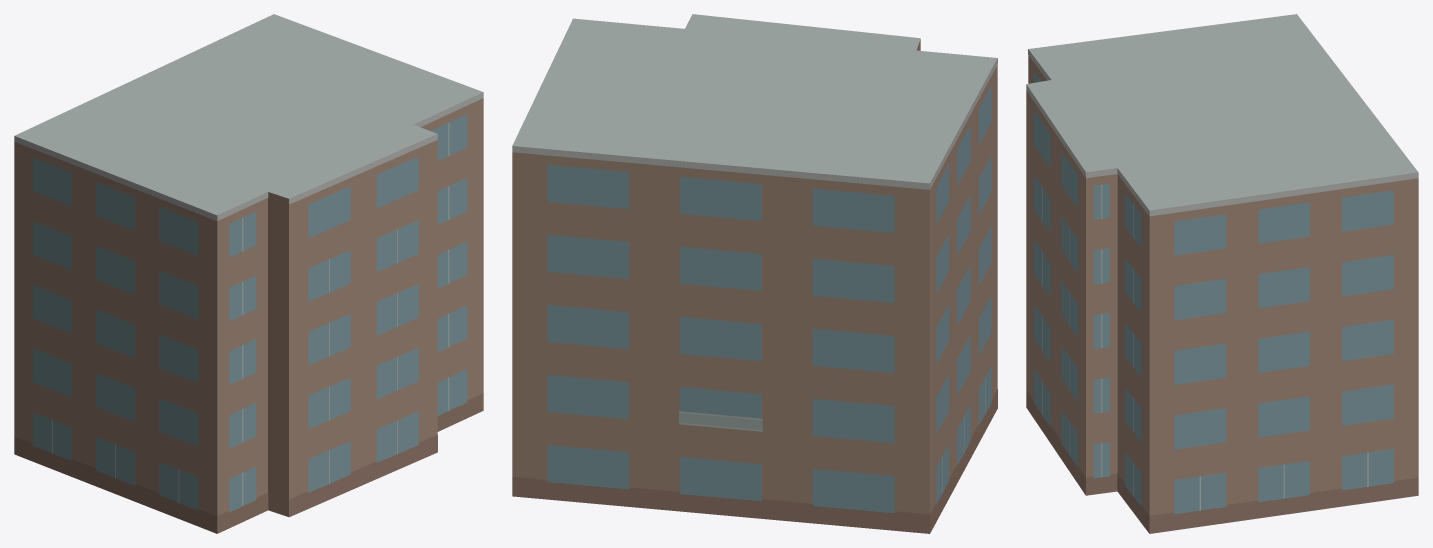
The model's file is survey-upis-32626159.glb.
3 renders of one model, left to right at view 1: azimuth 30°, elevation 25°; view 2: azimuth 150°, elevation 25°; view 3: azimuth 270°, elevation 25°, orthographic. The views are drawn at different scales.
Visible parts, largest first — view 1: survey-upis-32626159.tmp; view 2: survey-upis-32626159.tmp; view 3: survey-upis-32626159.tmp.
Part boxes in pixels (x1,y1,x2,y2): survey-upis-32626159.tmp: (14,14,483,533); survey-upis-32626159.tmp: (512,14,997,533); survey-upis-32626159.tmp: (1026,14,1418,533).
Bounding box in the file's own units: 17.62 × 13.5 × 14.85.
